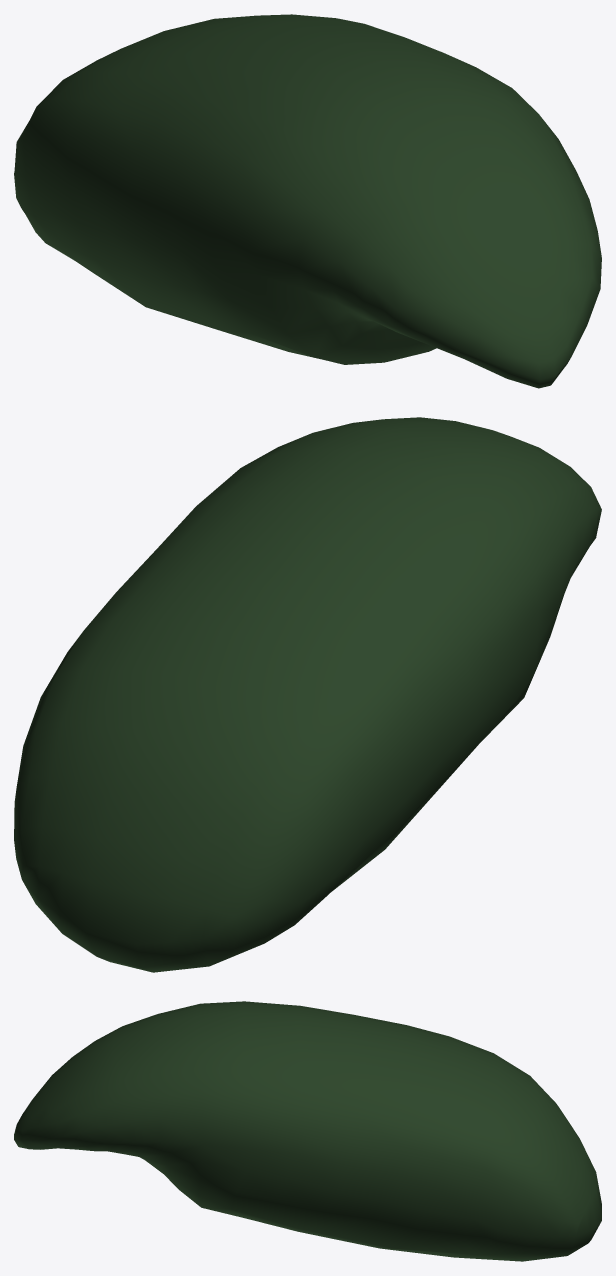
Rendered from m_hair_01.fbx.
3 renders of one model, top to bottom at view 1: azimuth 30°, elevation 25°; view 2: azimuth 150°, elevation 25°; view 3: azimuth 270°, elevation 25°, orthographic. The views are drawn at different scales.
Visible parts, largest first — view 1: m_hair_01; view 2: m_hair_01; view 3: m_hair_01.
Part boxes in pixels (x1,y1,x2,y2): m_hair_01: [14, 14, 601, 388]; m_hair_01: [14, 417, 601, 972]; m_hair_01: [14, 1001, 601, 1261].
Size of the model in its own units: 8.94 by 8.3 by 19.71.
